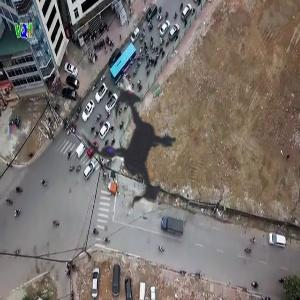drone: (22, 33, 254, 265)
